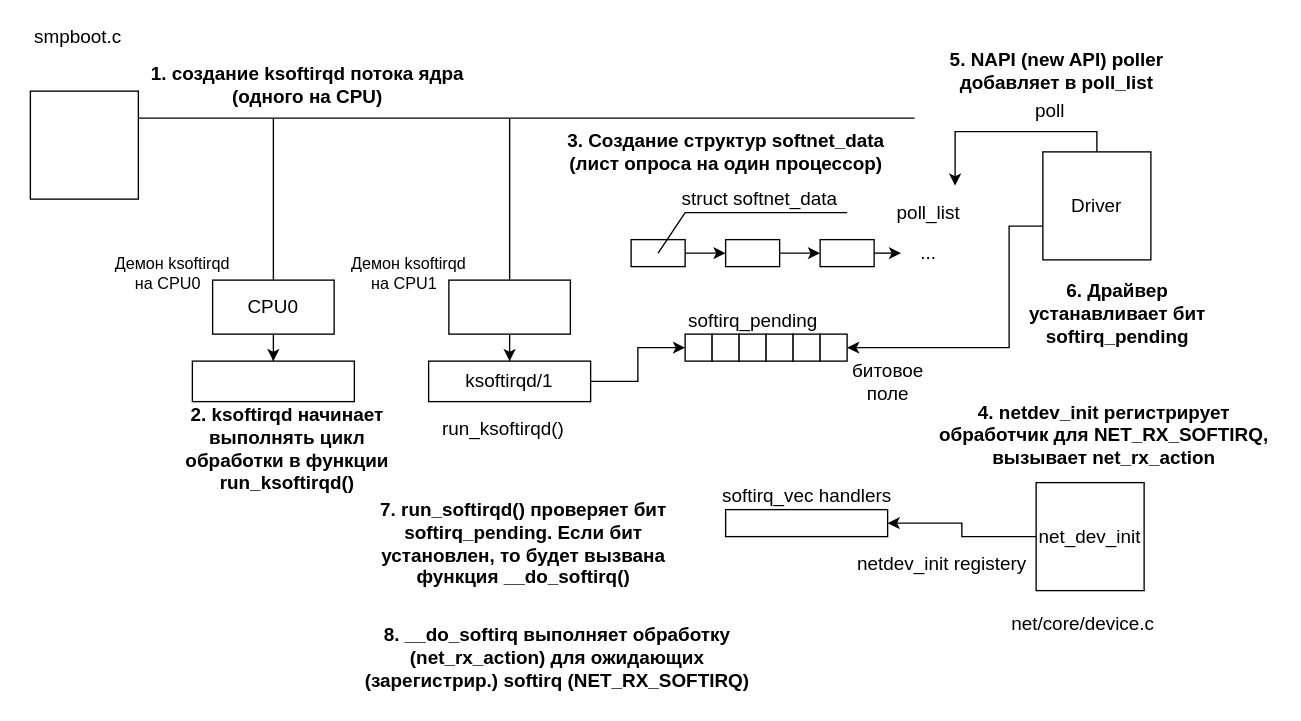
Image size: 1301x721. Some labels were removed from this diagram. The shapes that lost their labels are listed below. From the top down, each one's box as (x1, y1, x2, y2) in pixels, then its label:
(448, 279, 570, 334): CPU1
(191, 360, 354, 402): ksoftirqd/0
